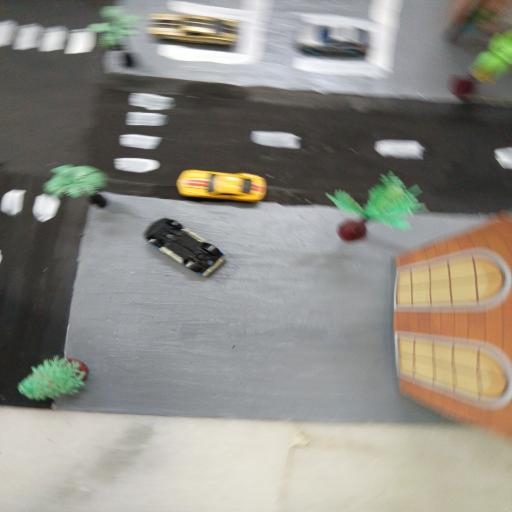car crash: (144, 210, 233, 290)
